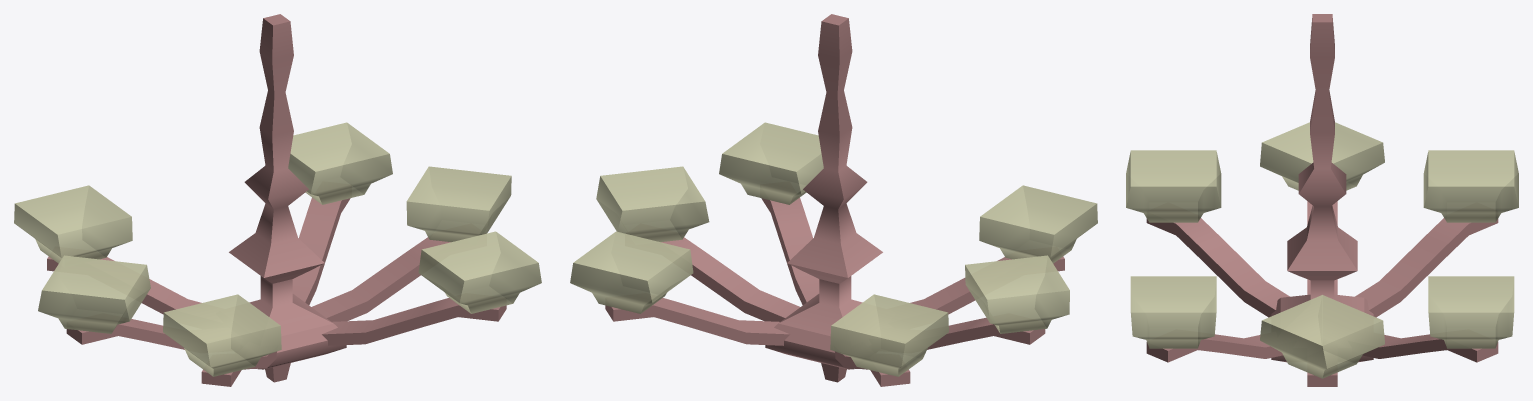
Rendered from Chandelier.fbx.
3 views of the same model, side by side, from view 1: azimuth 30°, elevation 25°; view 2: azimuth 150°, elevation 25°; view 3: azimuth 270°, elevation 25° (orthographic).
Parts seen in each view (by area): view 1: polySurface1; view 2: polySurface1; view 3: polySurface1.
Boxes of the visible parts, bbox=[...] form: polySurface1: bbox=[14, 14, 541, 386]; polySurface1: bbox=[570, 14, 1097, 386]; polySurface1: bbox=[1126, 14, 1518, 386].
Size of the model in its own units: 10.56 by 7.65 by 7.59.
